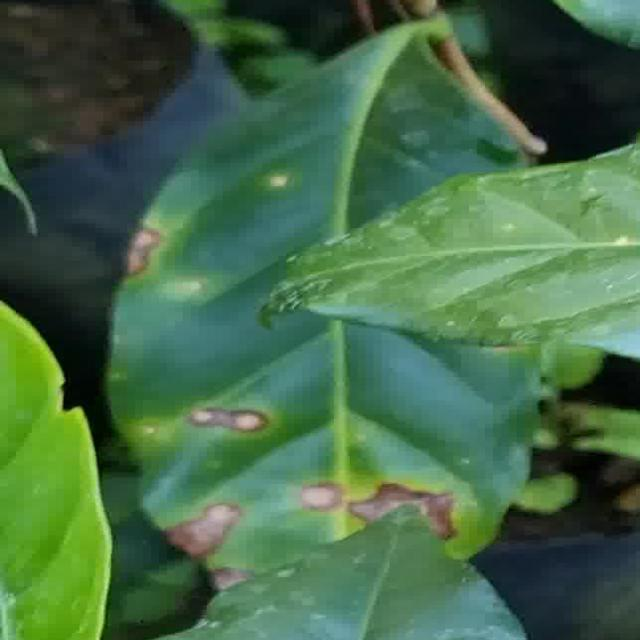leaves: (83, 16, 552, 585)
